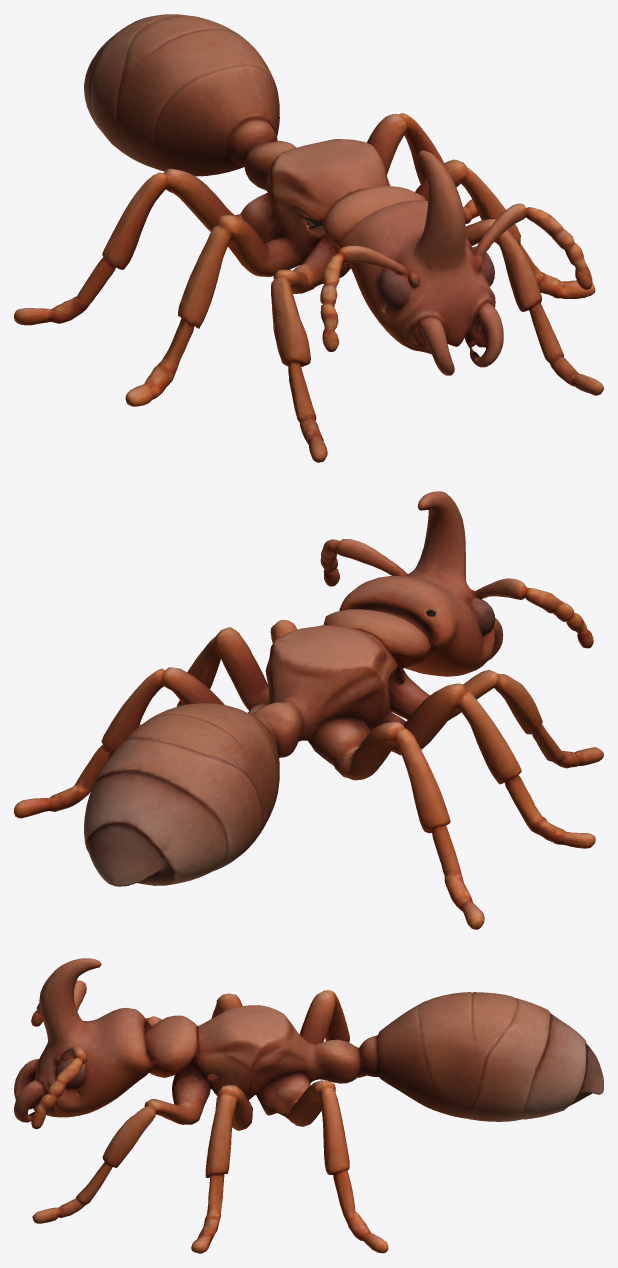
The picture shows the model from 3 angles, top to bottom: view 1: azimuth 30°, elevation 25°; view 2: azimuth 150°, elevation 25°; view 3: azimuth 270°, elevation 25°; orthographic projection. The views are drawn at different scales.
Parts seen in each view (by area): view 1: world; view 2: world; view 3: world.
Boxes of the visible parts, bbox=[...] form: world: bbox=[14, 14, 603, 462]; world: bbox=[14, 491, 603, 929]; world: bbox=[14, 958, 603, 1253].
Bounding box in the file's own units: 0.00909 × 0.00475 × 0.0121.
1 material, 1 textured.
